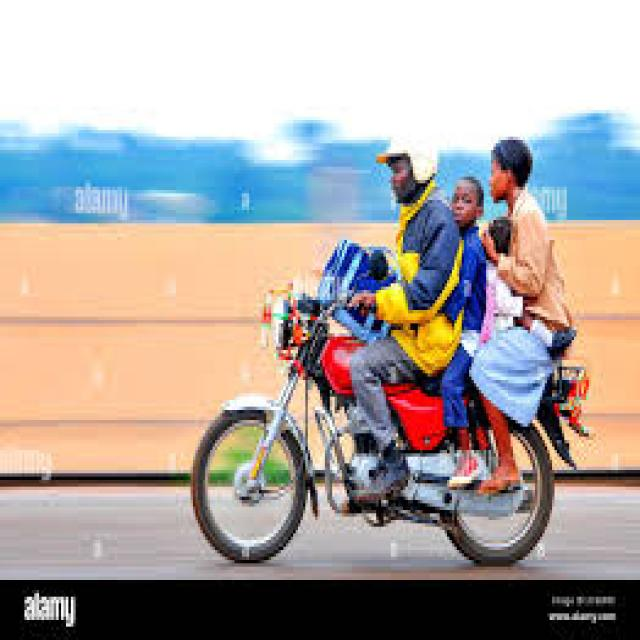bodaboda: (127, 202, 616, 610)
